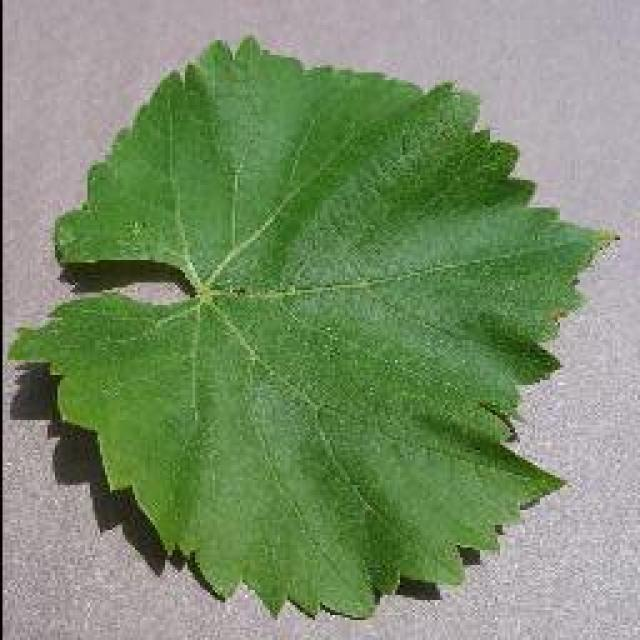Grape___healthy: (8, 38, 610, 615)
